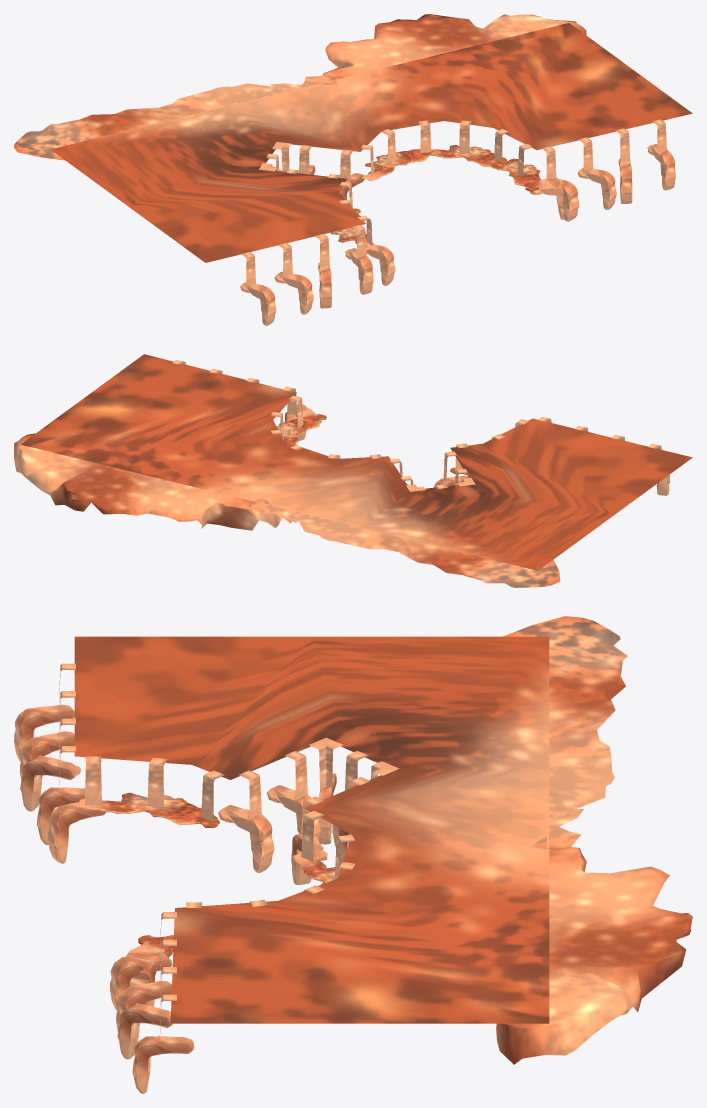
Rendered from LV4Lava.fbx.
3 views of the same model, one above another, from view 1: azimuth 30°, elevation 25°; view 2: azimuth 150°, elevation 25°; view 3: azimuth 270°, elevation 25° (orthographic). The views are drawn at different scales.
Visible parts, largest first — view 1: RockWalkway_21; view 2: RockWalkway_21; view 3: RockWalkway_21.
Part boxes in pixels (x1,y1,x2,y2): RockWalkway_21: [14, 14, 692, 325]; RockWalkway_21: [14, 354, 692, 587]; RockWalkway_21: [14, 616, 692, 1093].
Bounding box in the file's own units: 724 × 76.35 × 503.
